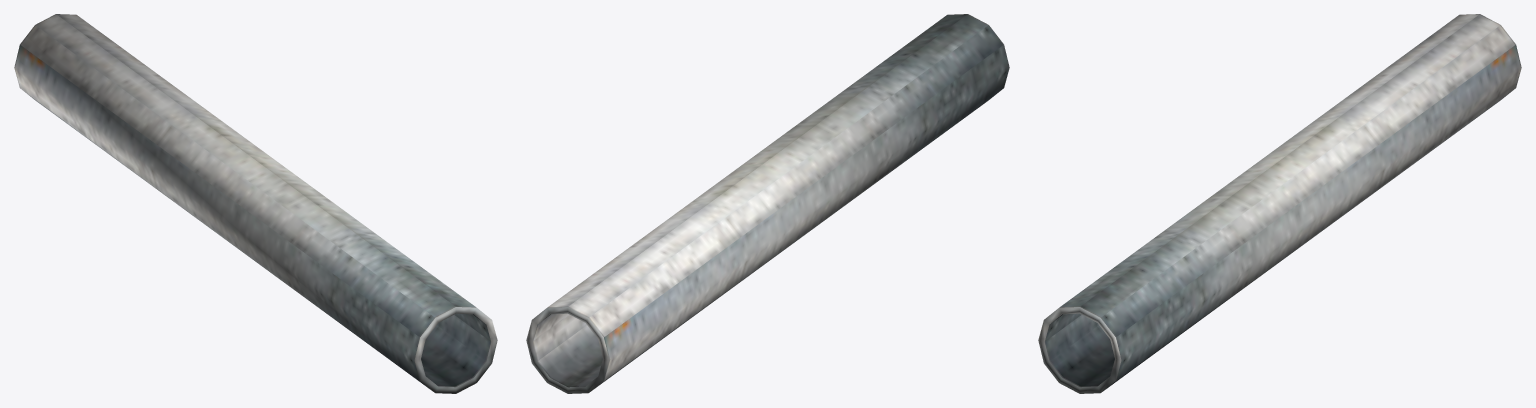
Rendered from metalpipe.glb.
3 views of the same model, side by side, from view 1: azimuth 30°, elevation 25°; view 2: azimuth 150°, elevation 25°; view 3: azimuth 330°, elevation 25° (orthographic).
Visible parts, largest first — view 1: MetalPipe; view 2: MetalPipe; view 3: MetalPipe.
Boxes of the visible parts, x1,y1,x2,y2 form: MetalPipe: [14, 14, 497, 393]; MetalPipe: [526, 14, 1009, 393]; MetalPipe: [1038, 14, 1521, 393].
Size of the model in its own units: 0.3 by 0.3 by 2.5.
Materials: 1 (1 with a texture image).
